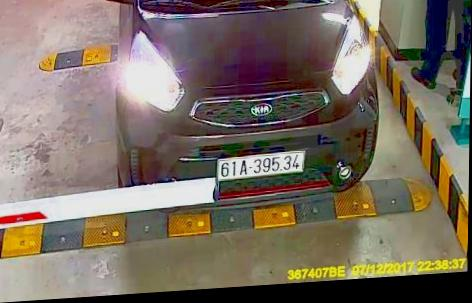License_Plate: (216, 150, 308, 181)
